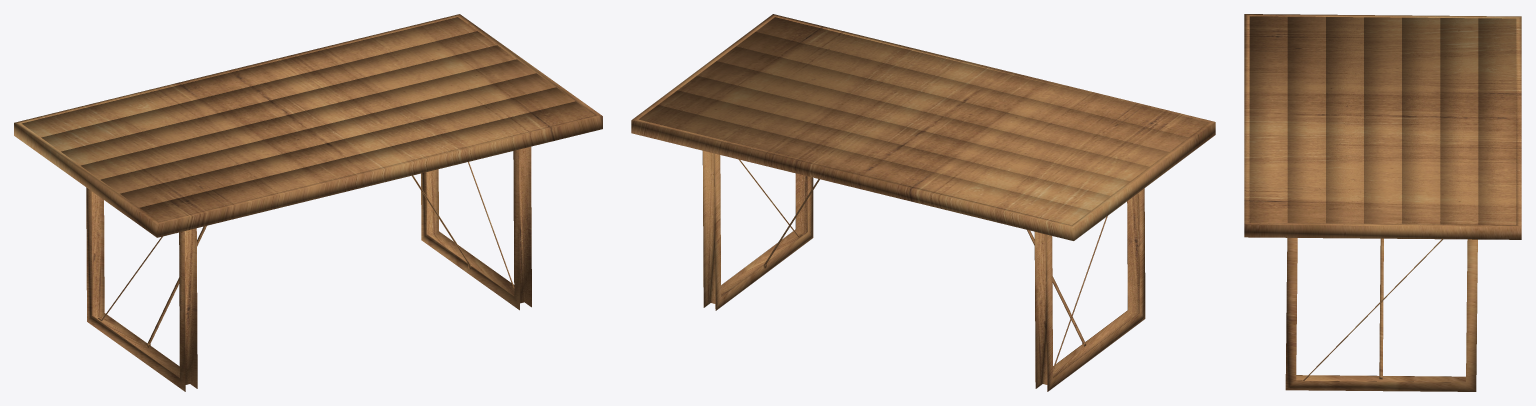
The model's file is BlakeAvenuejoshuatreecheftable.glb.
The picture shows the model from 3 angles, left to right: view 1: azimuth 30°, elevation 25°; view 2: azimuth 150°, elevation 25°; view 3: azimuth 270°, elevation 25°; orthographic projection. The views are drawn at different scales.
Visible parts, largest first — view 1: Mesh_0.019; view 2: Mesh_0.019; view 3: Mesh_0.019.
Boxes of the visible parts, bbox=[...] form: Mesh_0.019: bbox=[14, 14, 602, 391]; Mesh_0.019: bbox=[631, 14, 1215, 391]; Mesh_0.019: bbox=[1244, 14, 1521, 391].
Bounding box in the file's own units: 189 × 79.49 × 105.
1 material, 1 textured.
